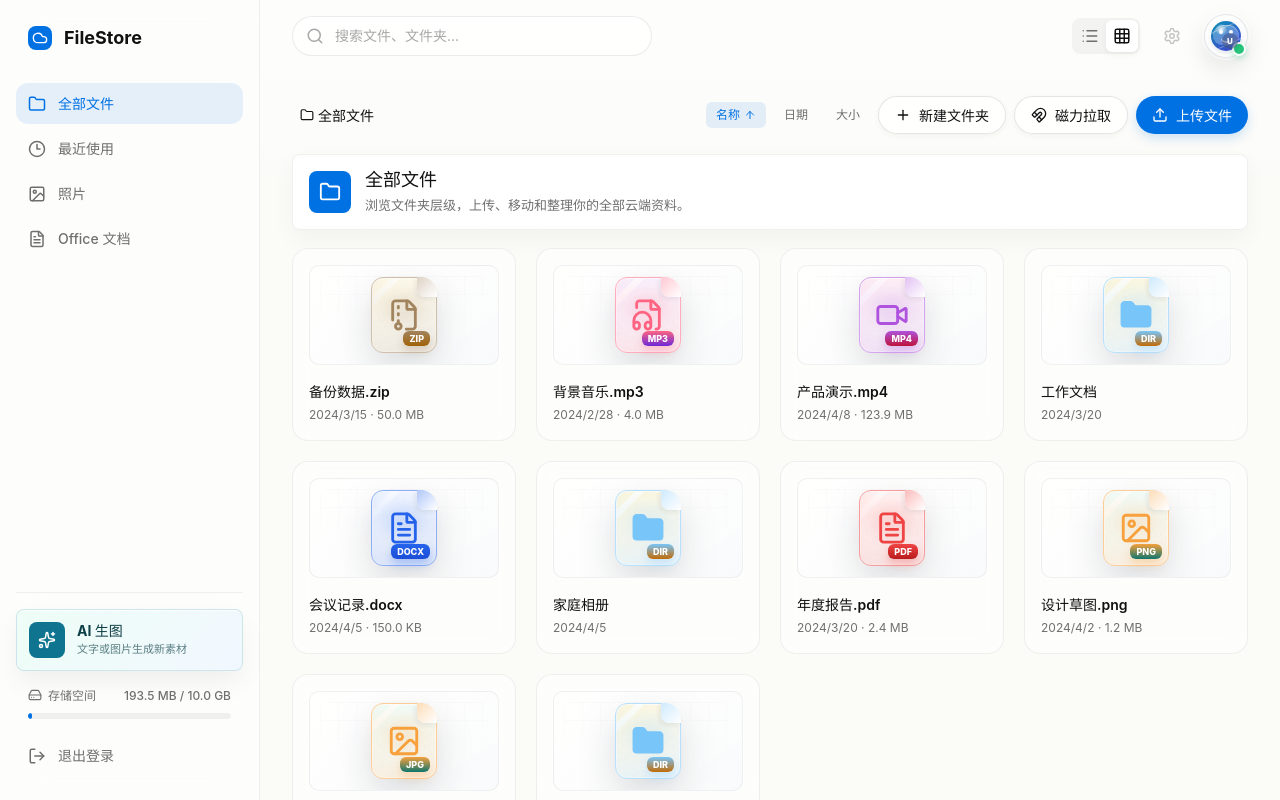
Test: FileManagerPage › disables the create folder button in recent, photos and office views
Expected: the text "工作文档" is shown, [1041, 383, 1097, 400]
Click the button "最近使用" at point(130, 148), box [16, 128, 243, 169]
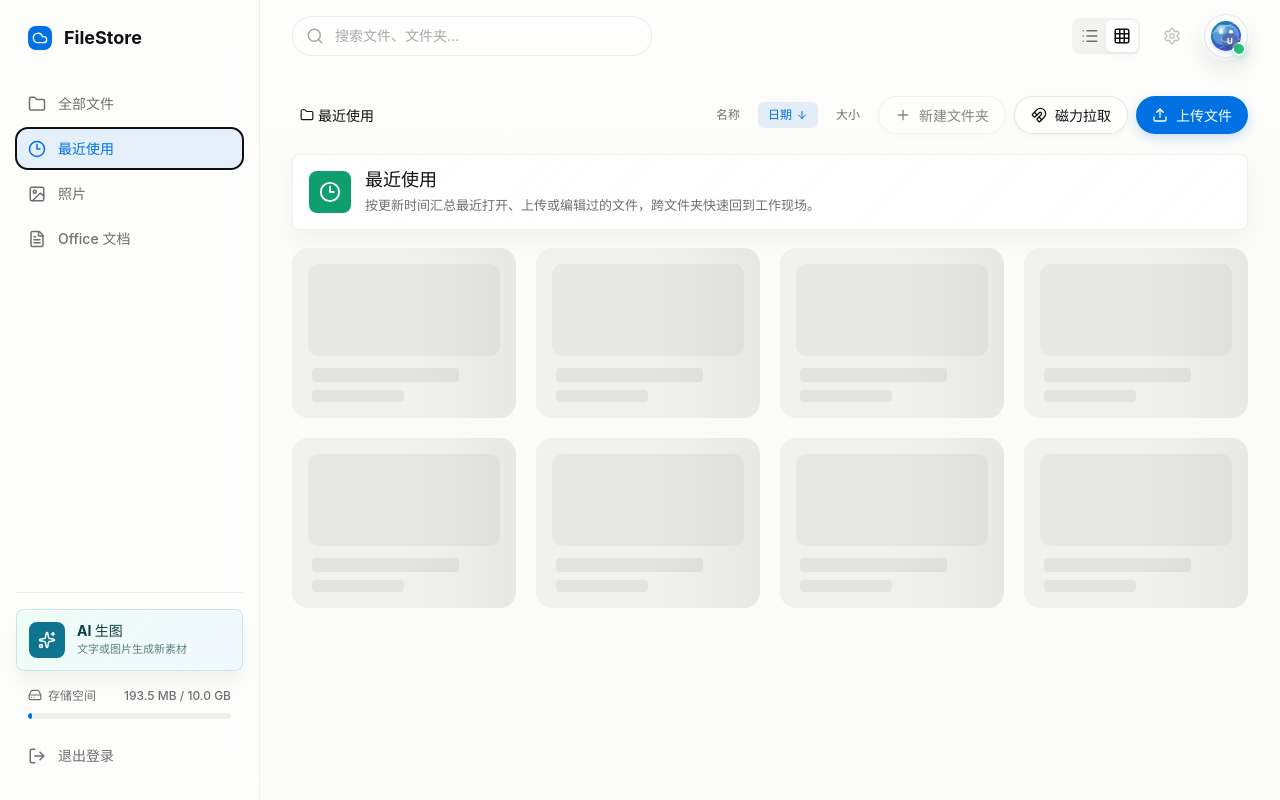
Expected: the button "新建文件夹" is disabled, [878, 96, 1006, 134]
Click the button "照片" at point(130, 194), box [16, 173, 243, 214]
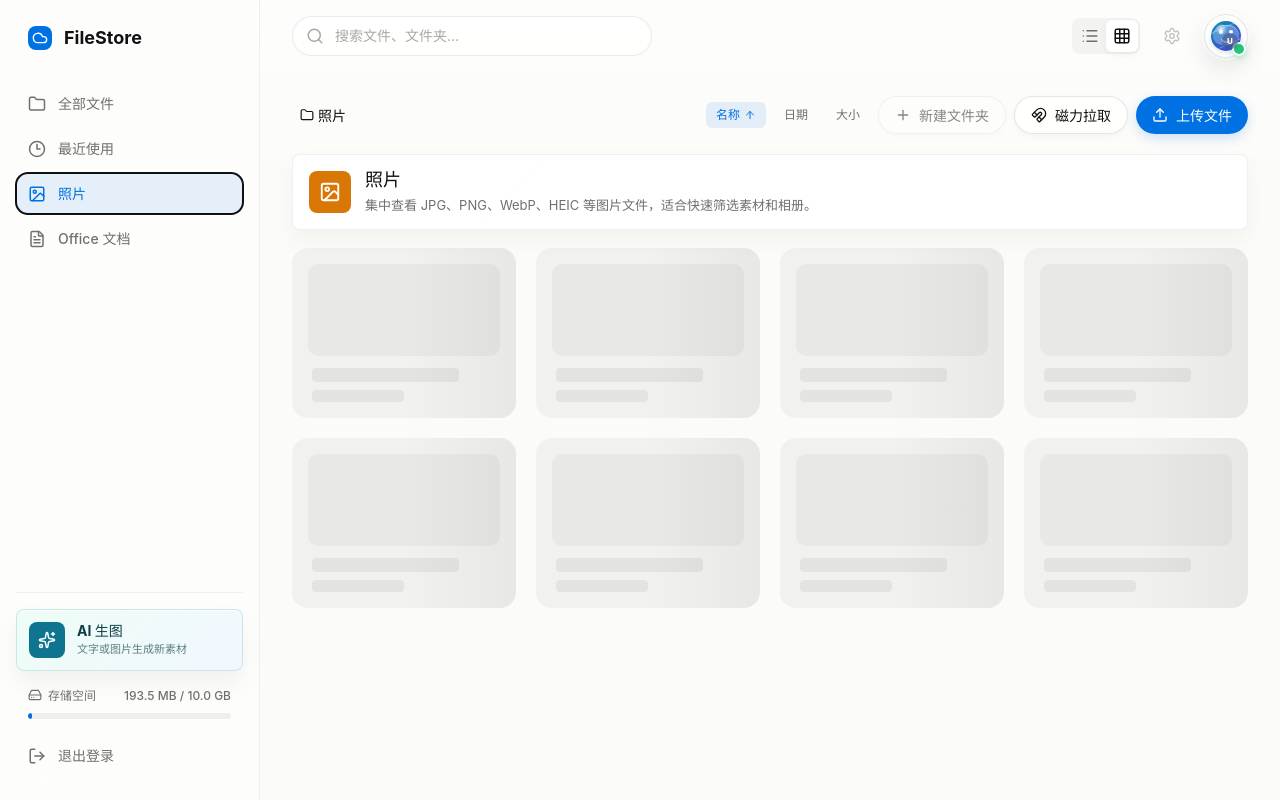
Expected: the button "新建文件夹" is disabled, [878, 96, 1006, 134]
Note: Office 文档视图
Click the button "Office 文档" at point(130, 238), box [16, 218, 243, 259]
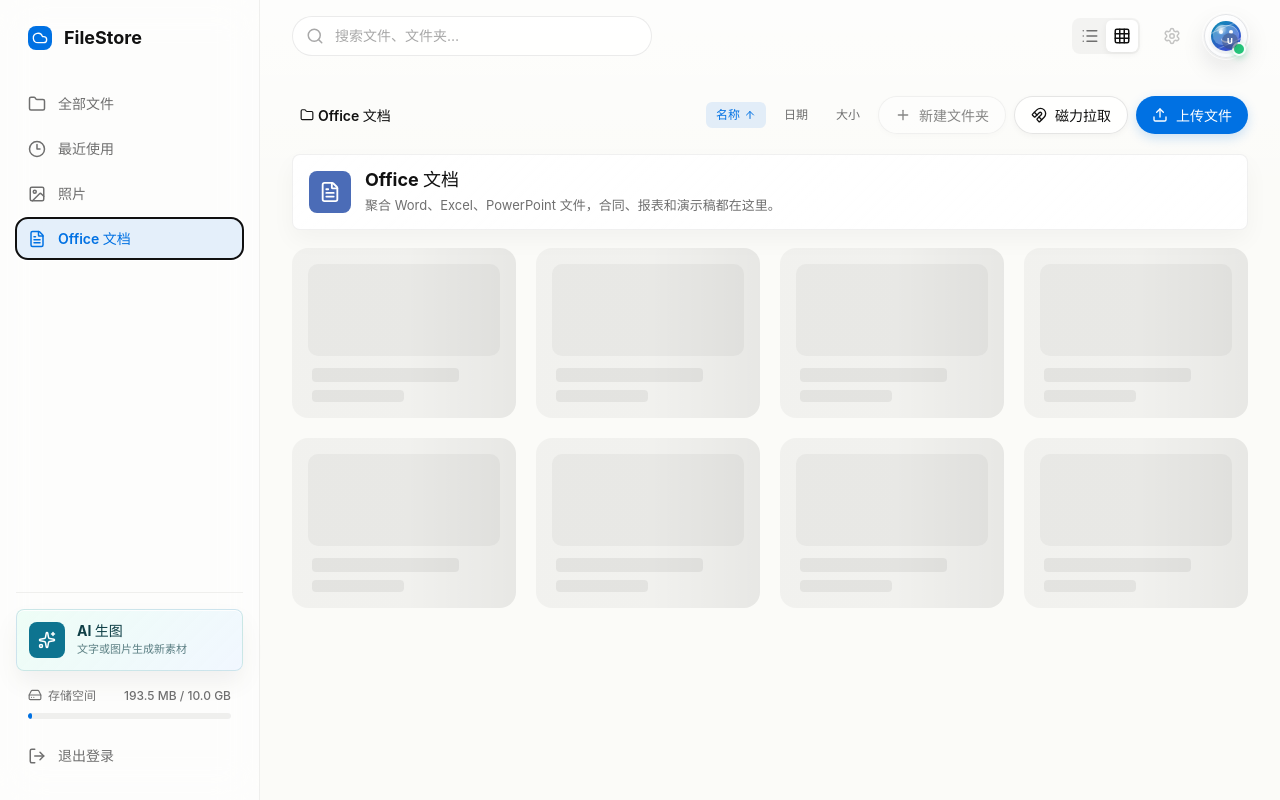
Expected: the button "新建文件夹" is disabled, [878, 96, 1006, 134]
Note: 切回全部文件视图，按钮恢复可用
Click the button "全部文件" at point(130, 104), box [16, 83, 243, 124]
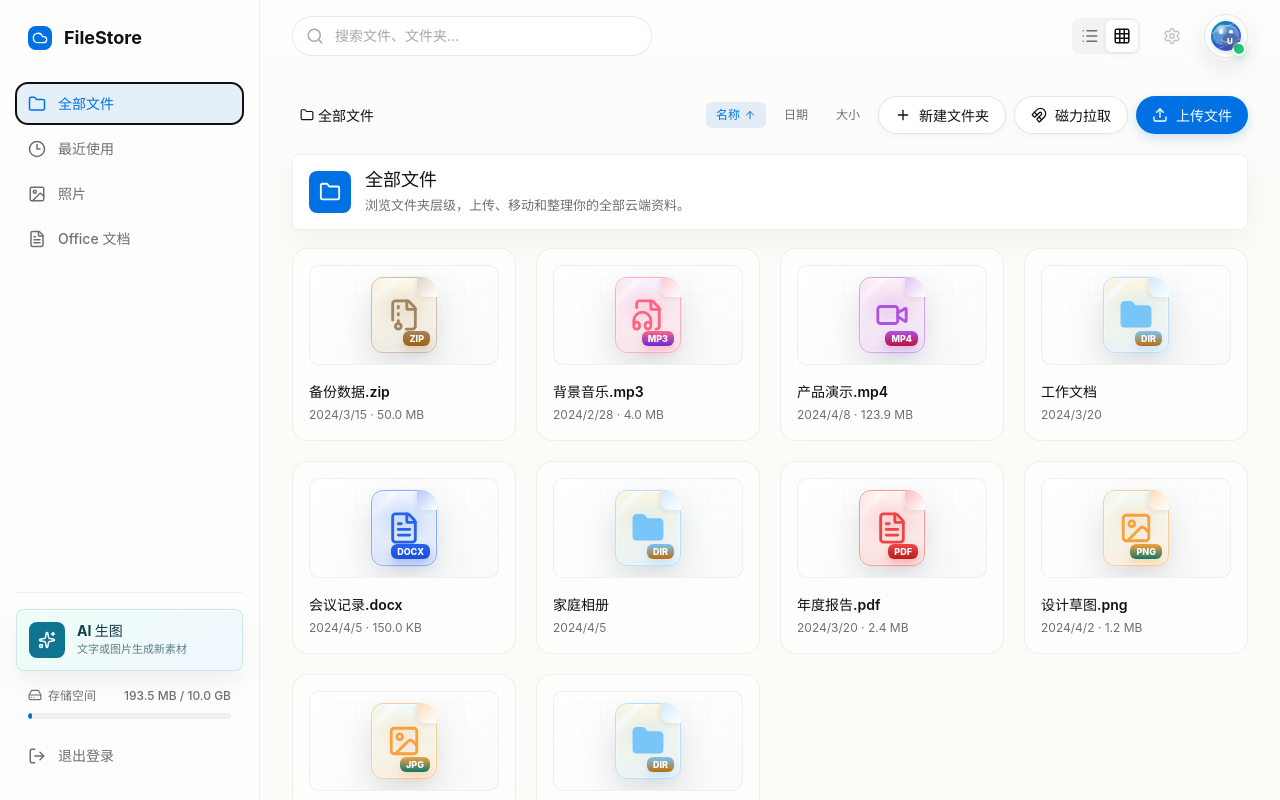
Expected: the button "新建文件夹" is enabled, [878, 96, 1006, 134]
